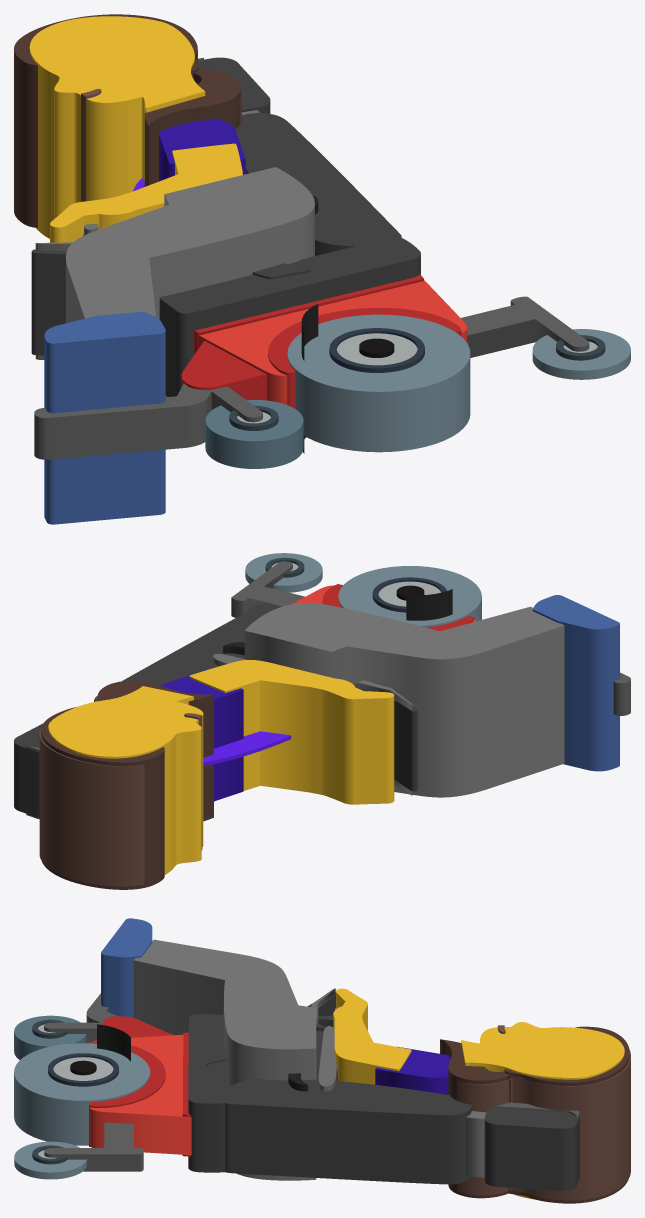
The model's file is emoji_u1f469_200d_1f9bc.glb.
3 views of the same model, one above another, from view 1: azimuth 30°, elevation 25°; view 2: azimuth 150°, elevation 25°; view 3: azimuth 270°, elevation 25° (orthographic). The views are drawn at different scales.
Visible parts, largest first — view 1: emoji_u1f469_200d_1f9bc; view 2: emoji_u1f469_200d_1f9bc; view 3: emoji_u1f469_200d_1f9bc.
Part boxes in pixels (box(x1,y1,x2,y2)): emoji_u1f469_200d_1f9bc: box(14, 14, 630, 524); emoji_u1f469_200d_1f9bc: box(14, 553, 630, 889); emoji_u1f469_200d_1f9bc: box(14, 918, 630, 1203).
Size of the model in its own units: 0.0242 by 0.0078 by 0.0324.
